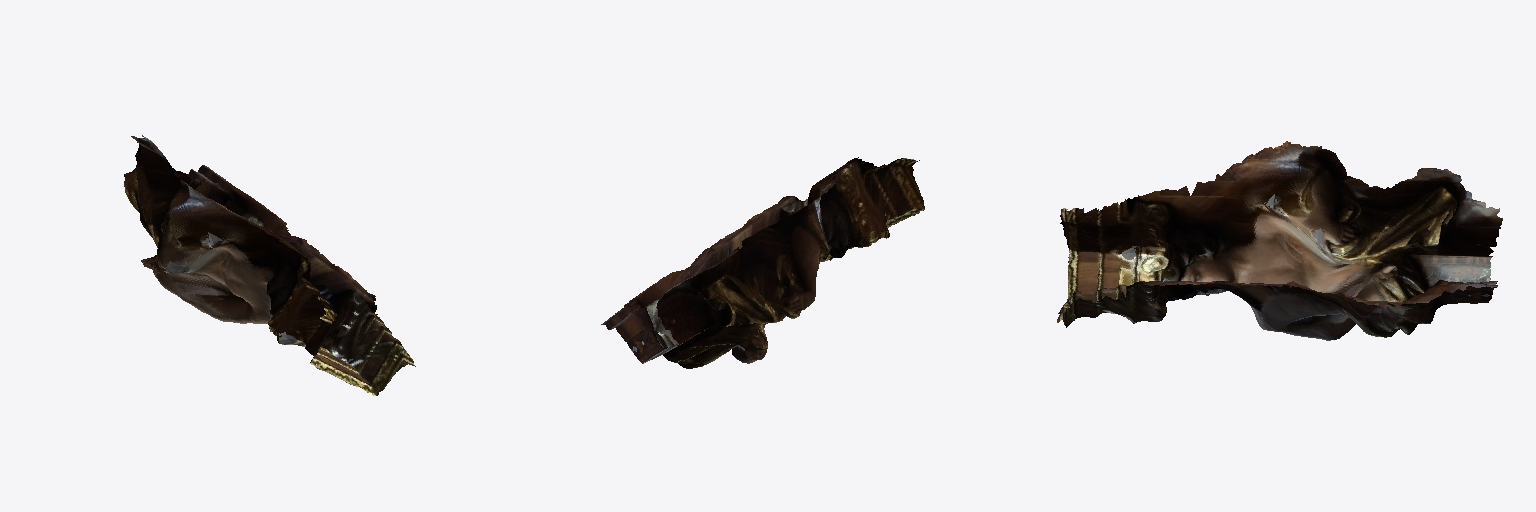
3 renders of one model, left to right at view 1: azimuth 30°, elevation 25°; view 2: azimuth 150°, elevation 25°; view 3: azimuth 270°, elevation 25°, orthographic.
Size of the model in its own units: 9.18 by 9.97 by 24.23.
3 materials, 2 textured.